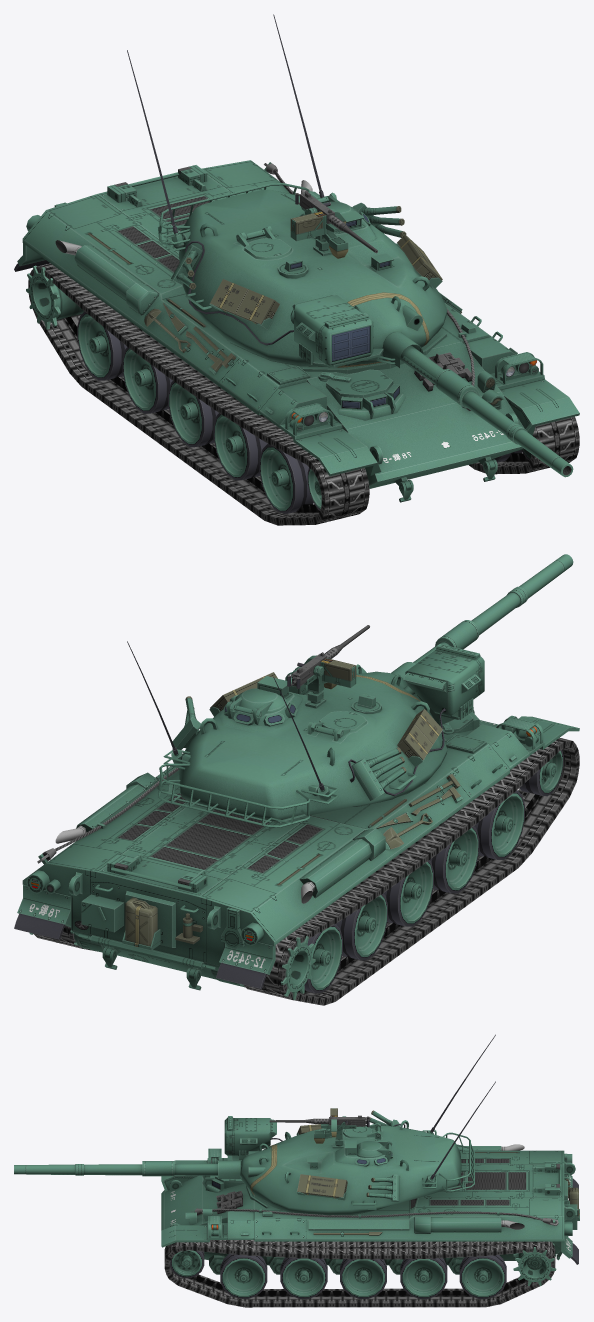
File: type-74.glb
3 renders of one model, top to bottom at view 1: azimuth 30°, elevation 25°; view 2: azimuth 150°, elevation 25°; view 3: azimuth 270°, elevation 25°, orthographic. The views are drawn at different scales.
Visible parts, largest first — view 1: type-74; view 2: type-74; view 3: type-74.
Part boxes in pixels (x1,y1,x2,y2): type-74: [14, 14, 579, 525]; type-74: [14, 554, 579, 1005]; type-74: [14, 1034, 579, 1307].
Bounding box in the file's own units: 3.14 × 3.71 × 9.11.
9 materials, 9 textured.
